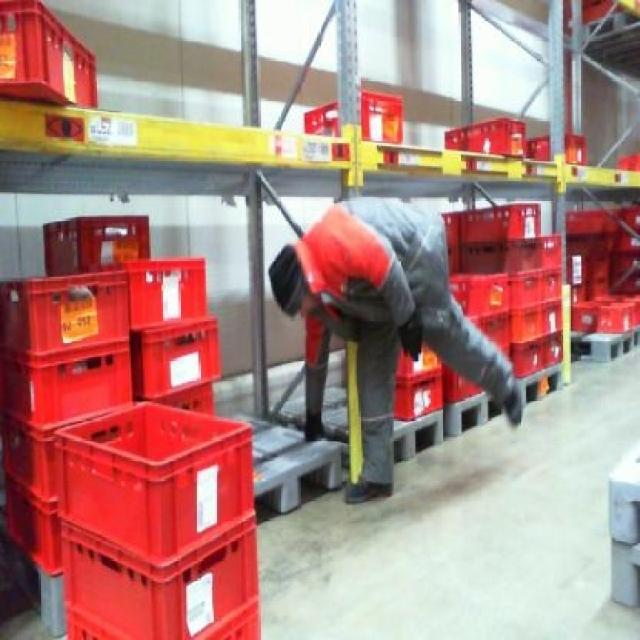pallets: (0, 269, 255, 637), (55, 402, 255, 637), (55, 400, 251, 558), (608, 440, 637, 603)
